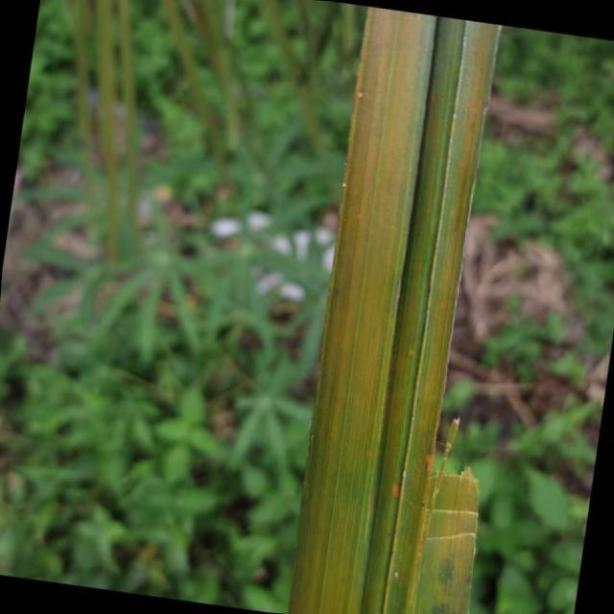Megnesium: (283, 0, 478, 614)
